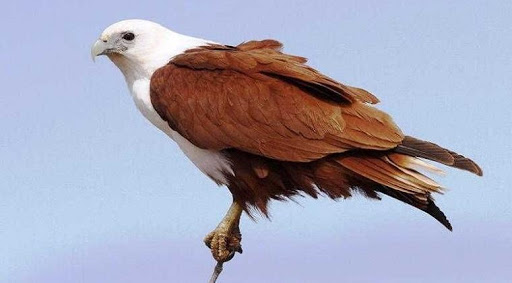Pengoyak Daging: (84, 36, 112, 68)
